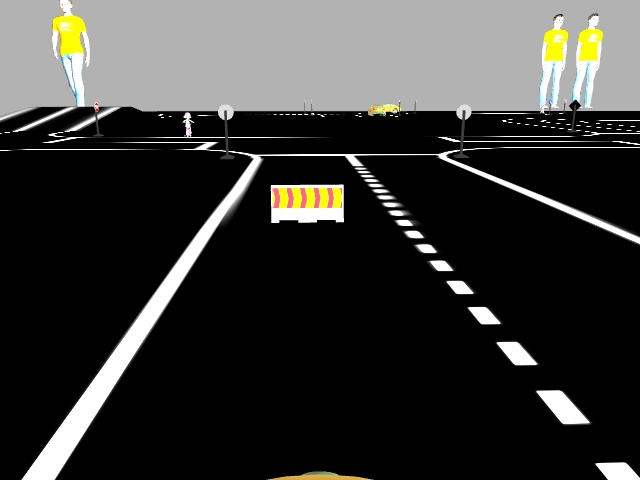ClosedRoadStand: (270, 183, 342, 221)
